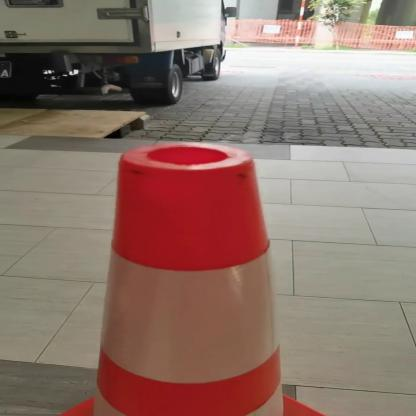cone: (31, 127, 365, 416)
